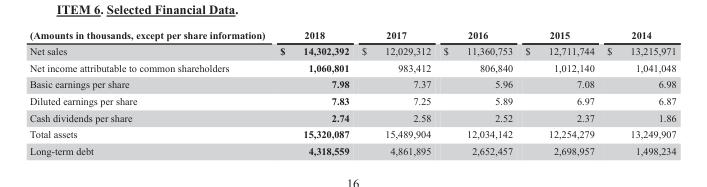table: (28, 28, 675, 156)
table column: (28, 28, 271, 156), (271, 28, 354, 156), (354, 28, 436, 156), (436, 28, 518, 156), (518, 28, 600, 156), (600, 28, 675, 156)
table column header: (28, 28, 675, 42)
table row: (28, 42, 675, 59), (28, 75, 675, 92), (28, 108, 675, 125), (28, 125, 675, 142), (28, 59, 675, 75), (28, 92, 675, 108), (28, 28, 675, 42), (28, 142, 675, 156)
